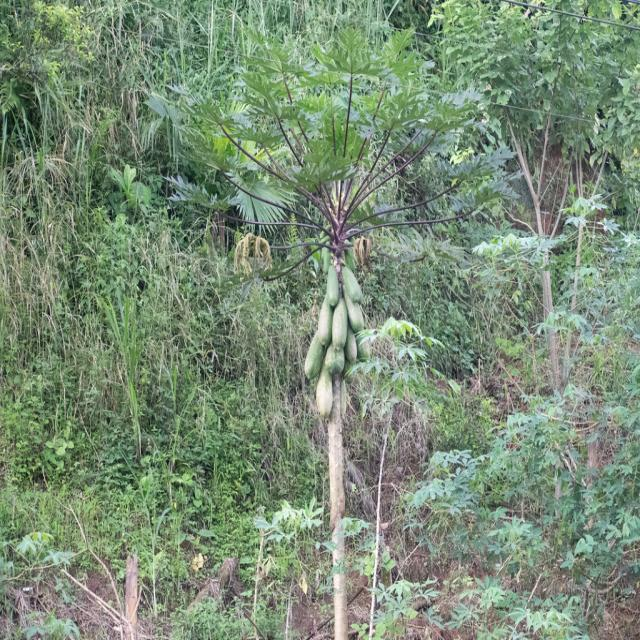Papaya-Tree: (198, 32, 469, 640)
